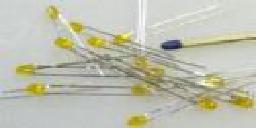LED: (24, 80, 68, 100), (183, 94, 220, 114), (16, 61, 53, 78), (159, 35, 192, 53), (129, 107, 156, 128), (52, 35, 77, 55), (230, 89, 256, 108)
